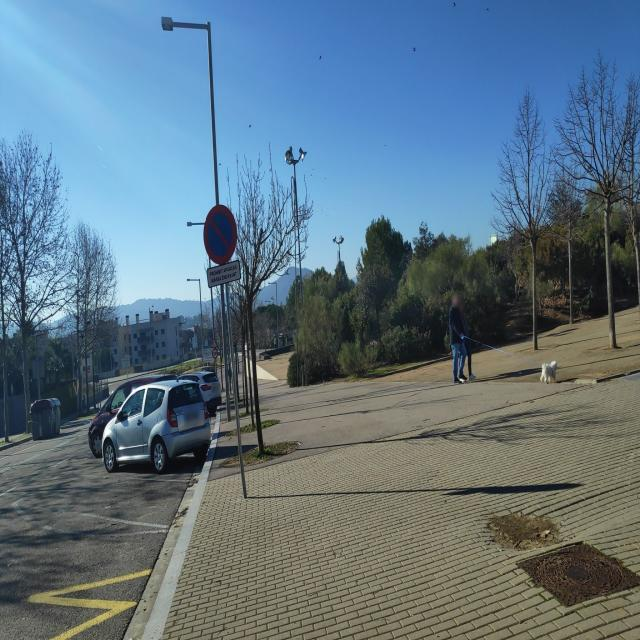forb_stopping: (202, 202, 239, 268)
